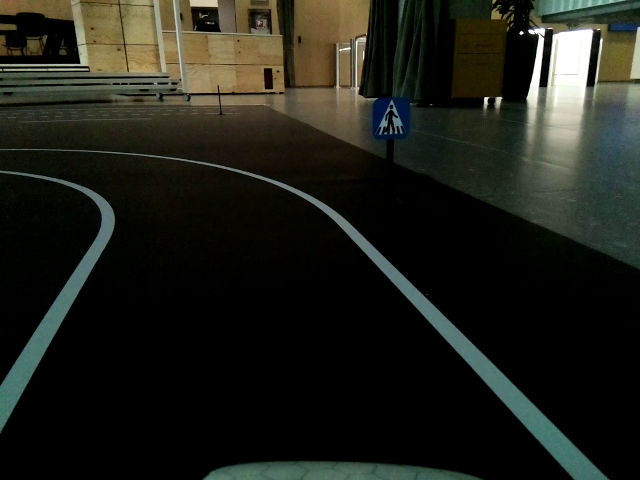pedestrians: (372, 100, 410, 137)
